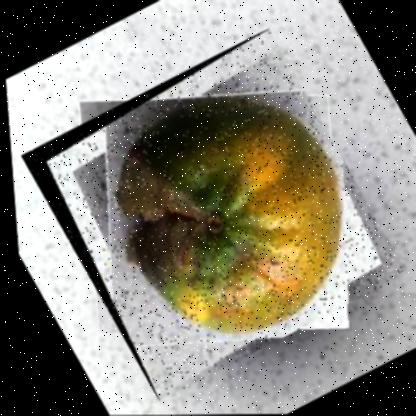orange_rotten: (9, 27, 409, 402)
